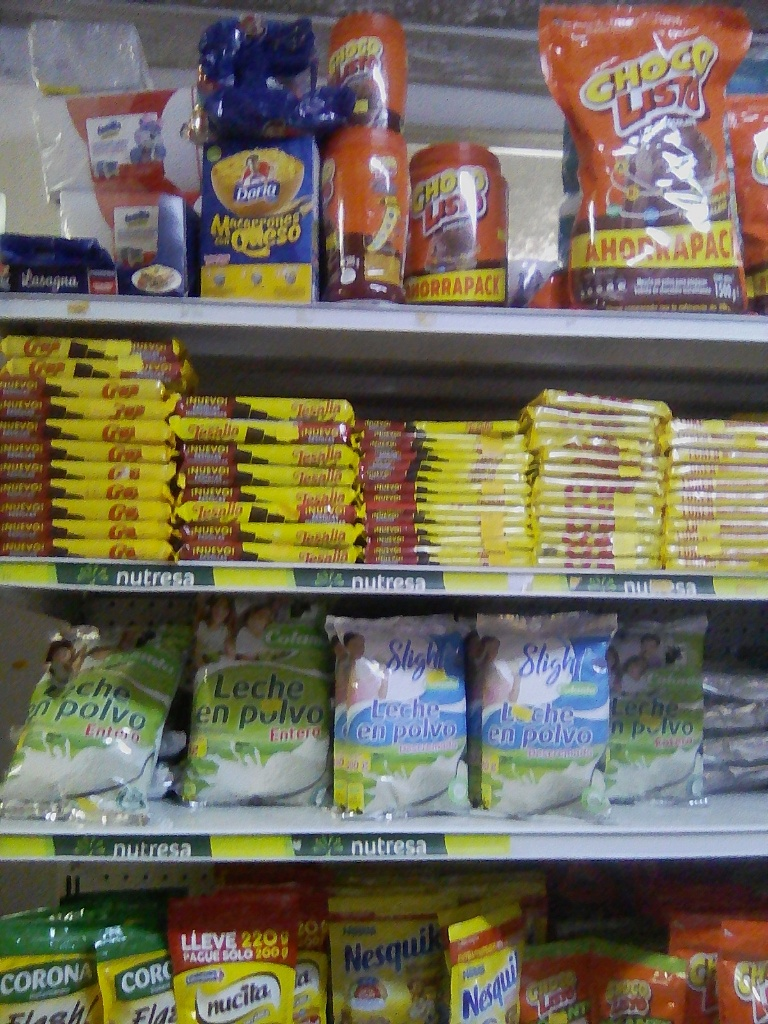COL0170103TRR00100: (404, 137, 516, 306)
